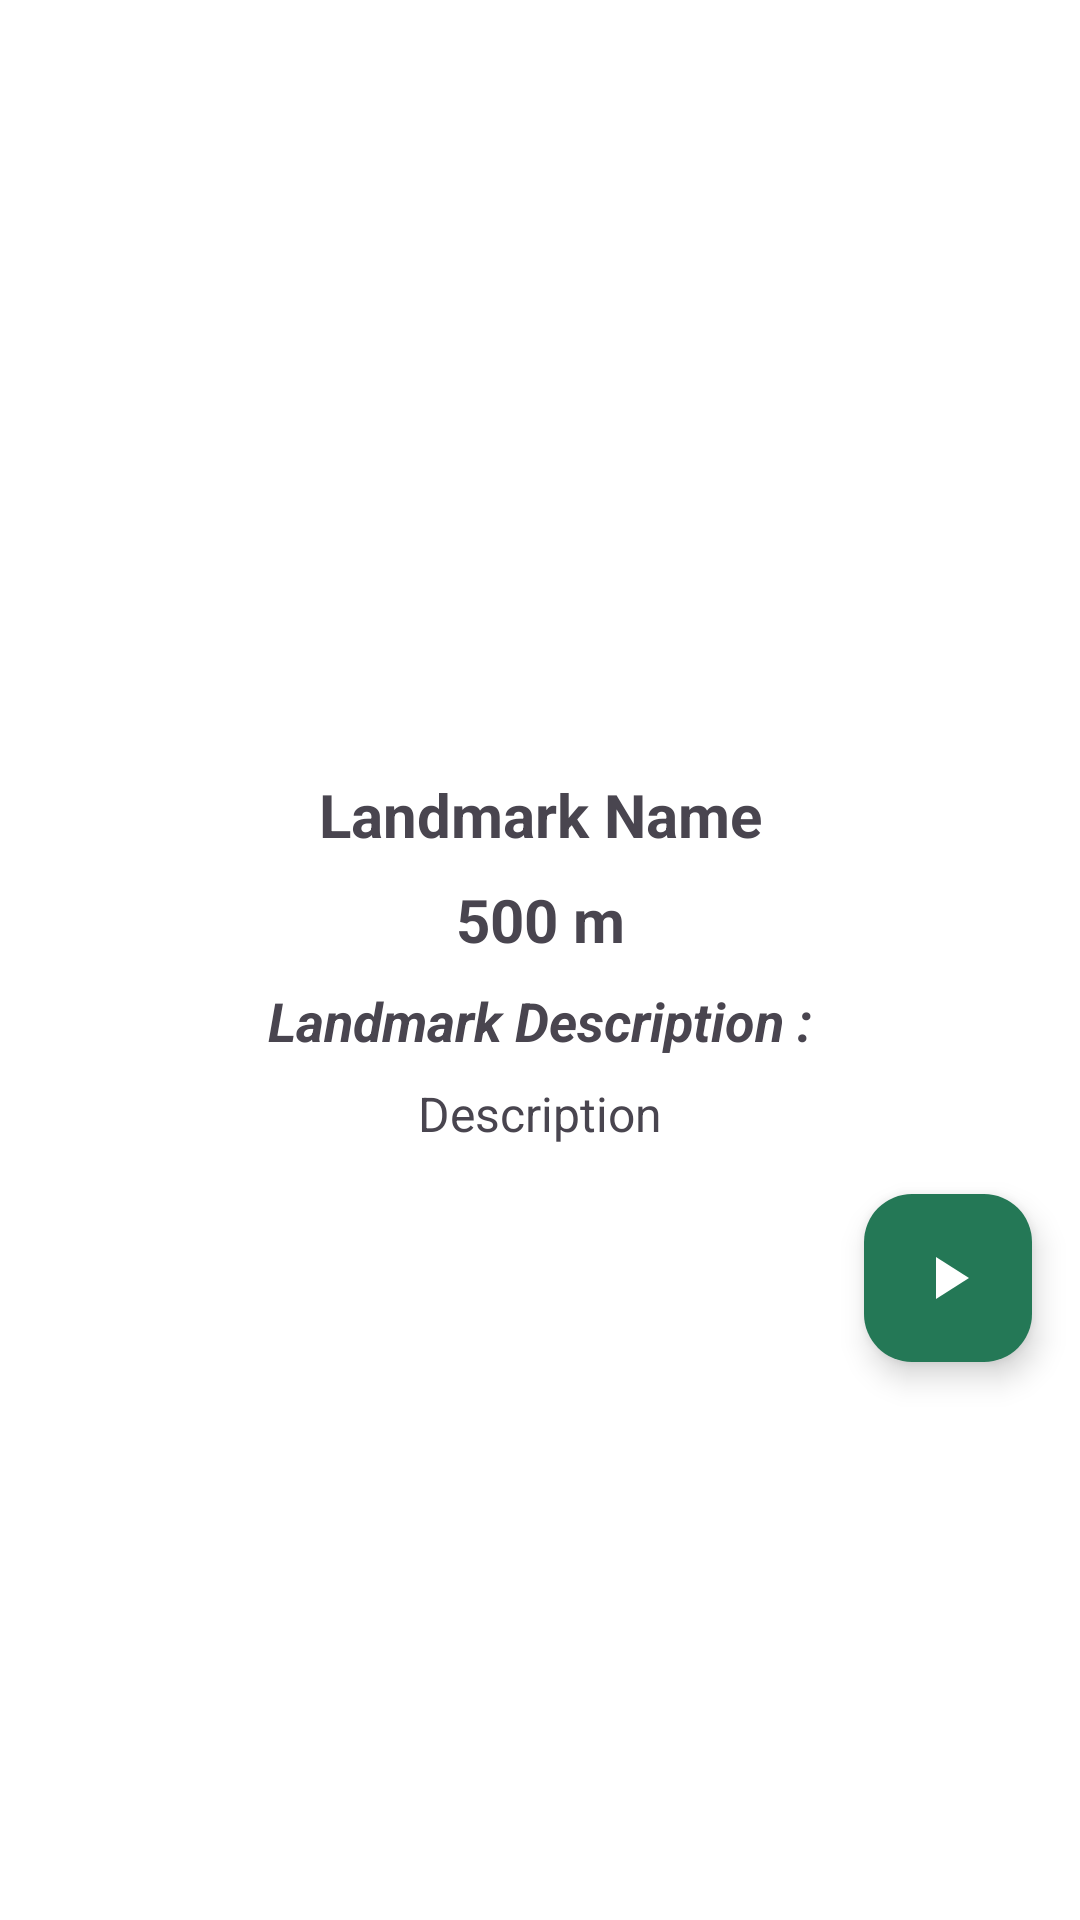

Point at icon controls on the screen. Image size 1080×1920, points as [x,y].
play: [948,1278]
